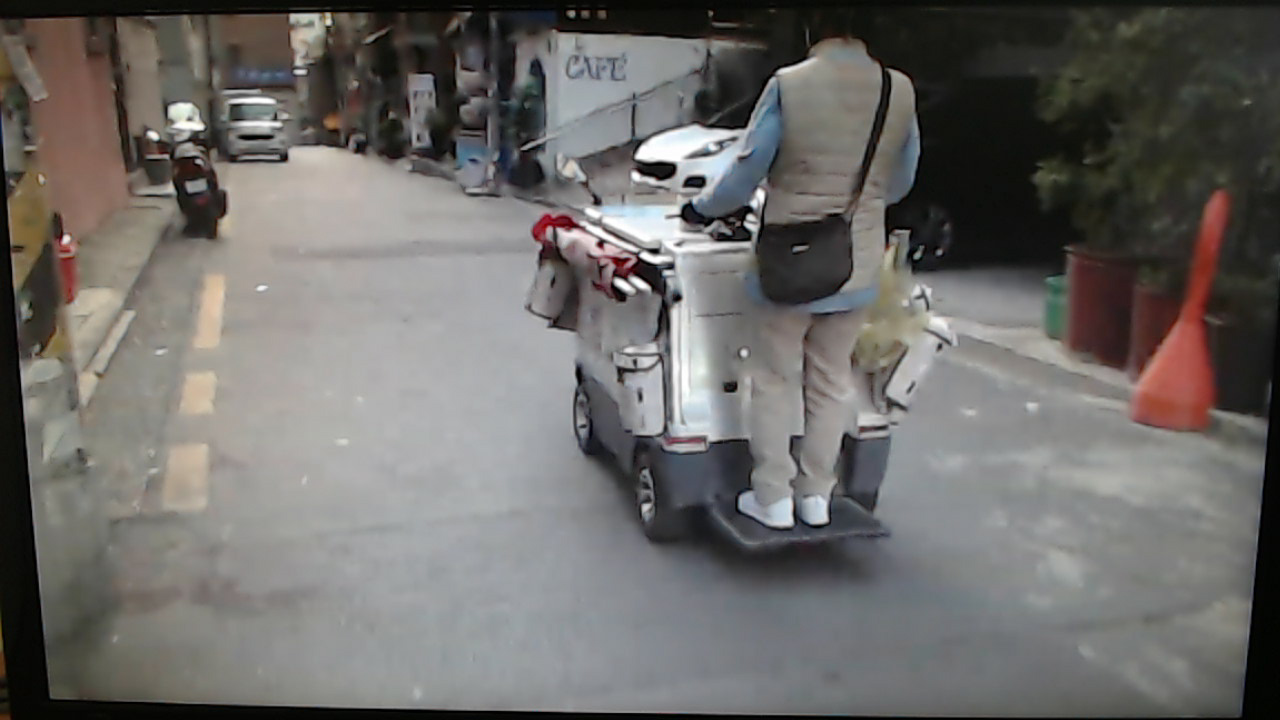Yakurut: (659, 5, 933, 540)
